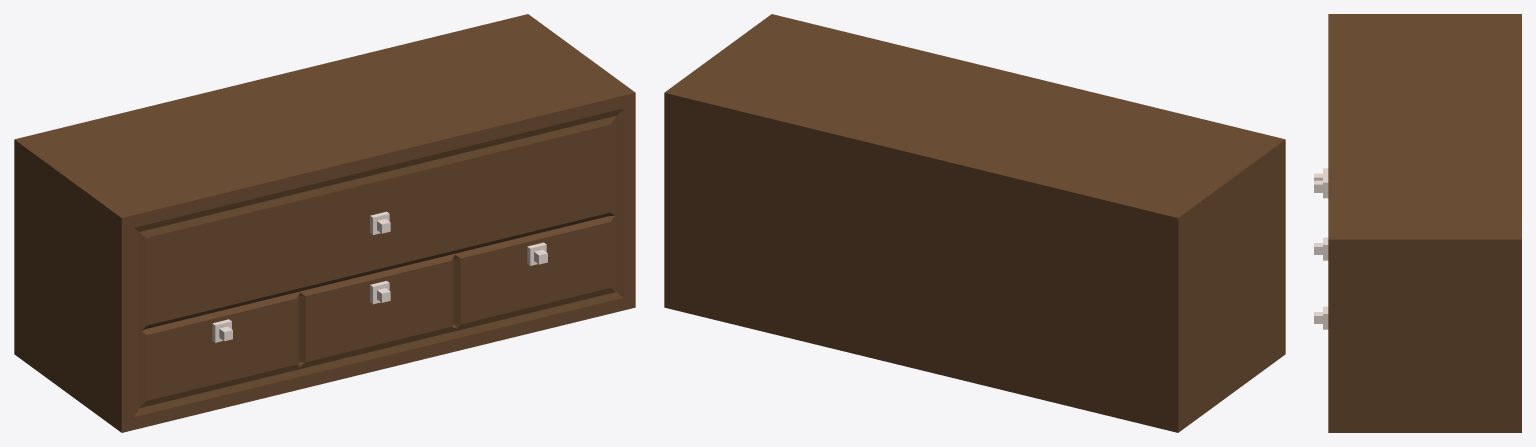
The model's file is chestOfDrawers.fbx.
3 renders of one model, left to right at view 1: azimuth 30°, elevation 25°; view 2: azimuth 150°, elevation 25°; view 3: azimuth 270°, elevation 25°, orthographic. The views are drawn at different scales.
Visible parts, largest first — view 1: chest of drawers; view 2: chest of drawers; view 3: chest of drawers.
Part boxes in pixels (<box>): chest of drawers: <box>14,14,635,432</box>; chest of drawers: <box>664,14,1285,432</box>; chest of drawers: <box>1314,14,1521,432</box>.
Bounding box in the file's own units: 5.52 × 2.2 × 2.15.
